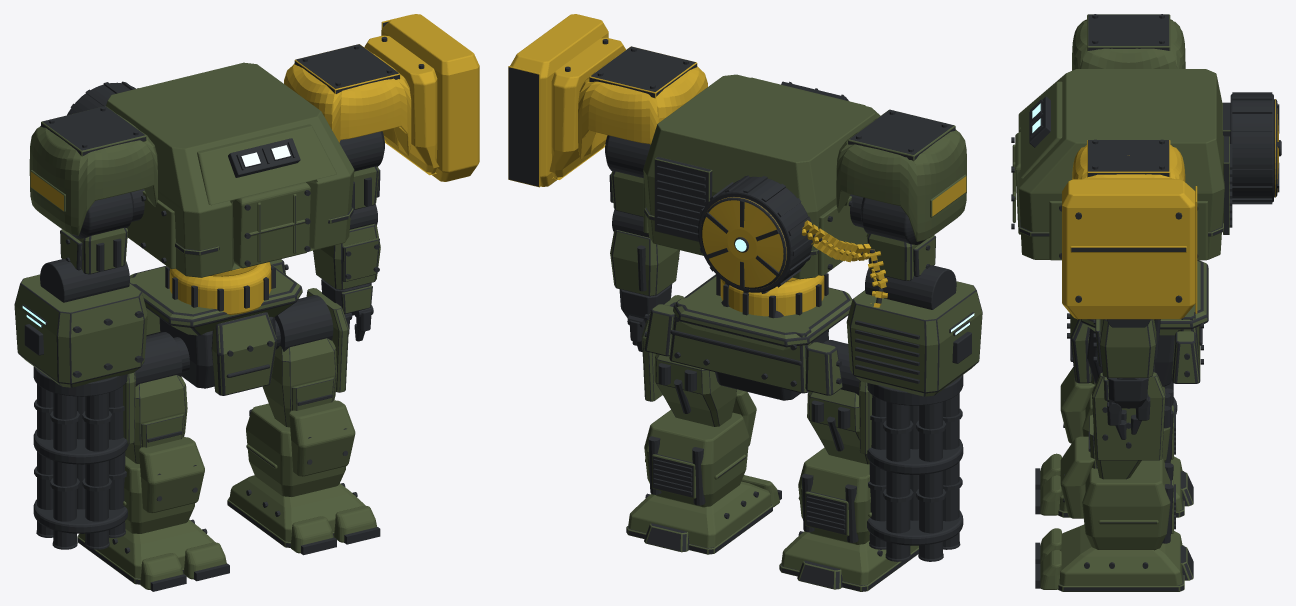
File: Titan_H2_r6.fbx
3 views of the same model, side by side, from view 1: azimuth 30°, elevation 25°; view 2: azimuth 150°, elevation 25°; view 3: azimuth 270°, elevation 25° (orthographic).
Parts seen in each view (by area): view 1: H2_Torso_Upper, H2_Shoulder_L, H2_Cannon, H2_Barrels, H2_Shoulder_R, H2_Pelvis, H2_Shin_L, H2_Thigh_L, H2_Shin_R, H2_Thigh_R, H2_Hatch, H2_Foot_L (+10 smaller); view 2: H2_Torso_Upper, H2_Shoulder_L, H2_Pelvis, H2_Cannon, H2_Barrels, H2_Shoulder_R, H2_Drum, H2_Shin_L, H2_Foot_L, H2_Shin_R, H2_Foot_R, H2_Thigh_L (+7 smaller); view 3: H2_Torso_Upper, H2_Shoulder_L, H2_Shin_L, H2_Foot_L, H2_Shoulder_R, H2_Pelvis, H2_Drum, H2_Thigh_L, H2_Forearm_L, H2_Shin_R, H2_Toe_L, H2_Toe_R (+6 smaller).
Part boxes in pixels (x1=…): H2_Torso_Upper: x1=106, y1=62, x2=354, y2=277; H2_Shoulder_L: x1=284, y1=14, x2=479, y2=181; H2_Cannon: x1=14, y1=258, x2=147, y2=396; H2_Barrels: x1=33, y1=384, x2=128, y2=549; H2_Shoulder_R: x1=29, y1=106, x2=157, y2=235; H2_Pelvis: x1=129, y1=259, x2=302, y2=395; H2_Shin_L: x1=246, y1=400, x2=355, y2=496; H2_Thigh_L: x1=262, y1=288, x2=348, y2=427; H2_Shin_R: x1=123, y1=437, x2=204, y2=533; H2_Thigh_R: x1=123, y1=332, x2=187, y2=463; H2_Hatch: x1=233, y1=182, x2=310, y2=268; H2_Foot_L: x1=227, y1=475, x2=365, y2=547; H2_Torso_Upper: x1=643, y1=74, x2=880, y2=279; H2_Shoulder_L: x1=508, y1=14, x2=707, y2=187; H2_Pelvis: x1=644, y1=274, x2=852, y2=400; H2_Cannon: x1=846, y1=265, x2=982, y2=405; H2_Barrels: x1=866, y1=393, x2=963, y2=561; H2_Shoulder_R: x1=836, y1=109, x2=966, y2=241; H2_Drum: x1=696, y1=175, x2=812, y2=293; H2_Shin_L: x1=644, y1=389, x2=756, y2=507; H2_Foot_L: x1=626, y1=481, x2=772, y2=554; H2_Shin_R: x1=798, y1=447, x2=871, y2=544; H2_Foot_R: x1=779, y1=531, x2=918, y2=591; H2_Thigh_L: x1=642, y1=295, x2=736, y2=426; H2_Torso_Upper: x1=1018, y1=69, x2=1232, y2=260; H2_Shoulder_L: x1=1062, y1=139, x2=1197, y2=319; H2_Shin_L: x1=1060, y1=436, x2=1175, y2=550; H2_Foot_L: x1=1058, y1=524, x2=1193, y2=591; H2_Shoulder_R: x1=1072, y1=14, x2=1185, y2=70; H2_Pelvis: x1=1067, y1=260, x2=1208, y2=386; H2_Drum: x1=1230, y1=92, x2=1281, y2=204; H2_Thigh_L: x1=1088, y1=364, x2=1170, y2=479; H2_Forearm_L: x1=1093, y1=319, x2=1160, y2=377; H2_Shin_R: x1=1060, y1=367, x2=1175, y2=463; H2_Toe_L: x1=1035, y1=528, x2=1061, y2=589; H2_Toe_R: x1=1035, y1=453, x2=1061, y2=515.
Size of the model in its own units: 5.9 by 5.96 by 3.24.
